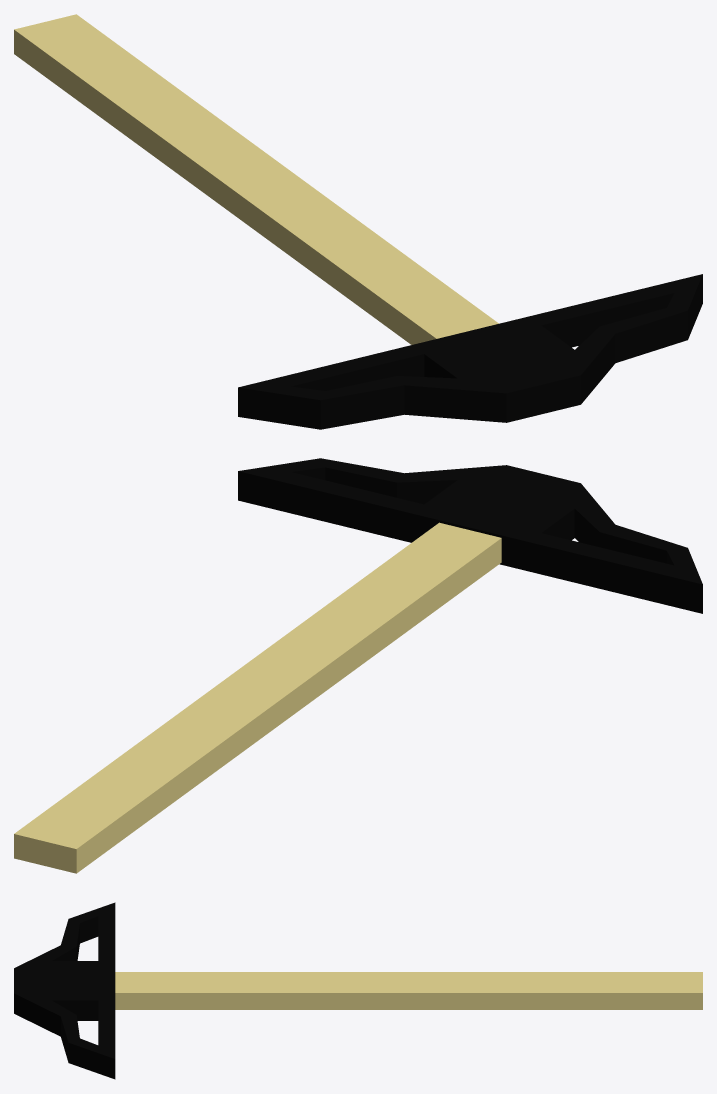
File: T-SQUARE.fbx
3 views of the same model, one above another, from view 1: azimuth 30°, elevation 25°; view 2: azimuth 150°, elevation 25°; view 3: azimuth 270°, elevation 25° (orthographic). The views are drawn at different scales.
Parts seen in each view (by area): view 1: t-square.001; view 2: t-square.001; view 3: t-square.001.
Part boxes in pixels (left/top/right/bottom): t-square.001: left=14, top=14, right=702, bottom=429; t-square.001: left=14, top=458, right=702, bottom=873; t-square.001: left=14, top=902, right=702, bottom=1079.
Bounding box in the file's own units: 476 × 28.8 × 884.
